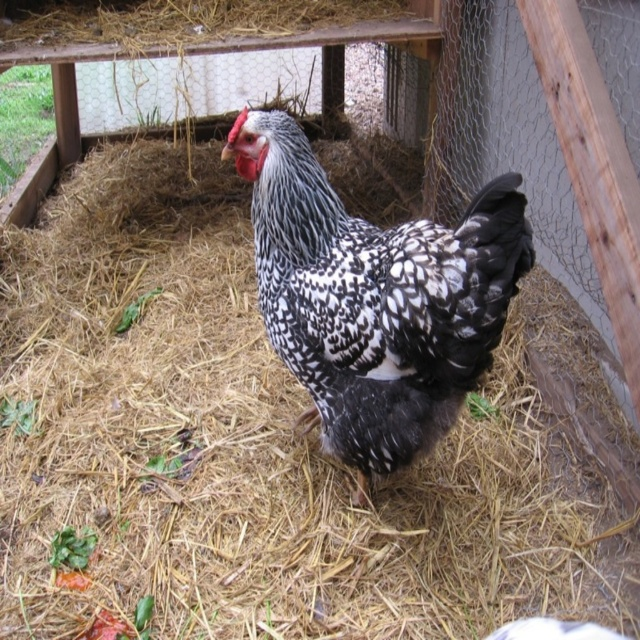Chicken: (214, 108, 539, 512)
